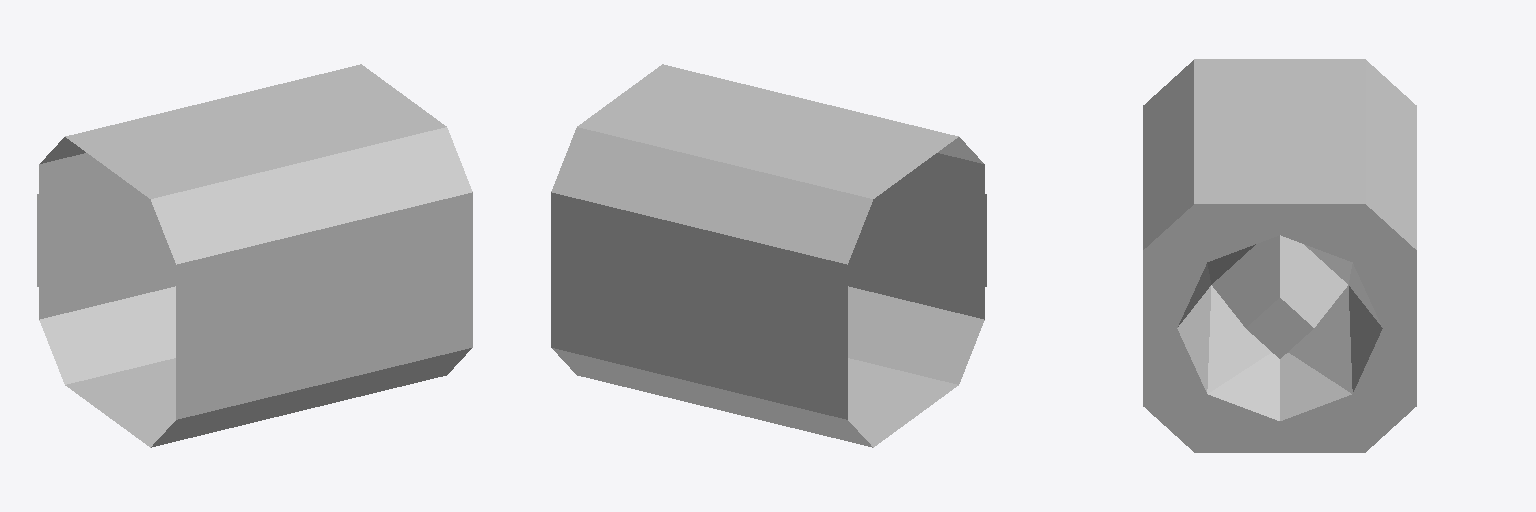
The model's file is klaxon.obj.
The picture shows the model from 3 angles: view 1: azimuth 30°, elevation 25°; view 2: azimuth 150°, elevation 25°; view 3: azimuth 270°, elevation 25°; orthographic projection.
Visible parts, largest first — view 1: klaxon; view 2: klaxon; view 3: klaxon.
Boxes of the visible parts, <box> form: klaxon: <box>37,64,472,447</box>; klaxon: <box>551,64,986,447</box>; klaxon: <box>1143,59,1416,452</box>.
Size of the model in its own units: 20 by 16 by 16.5.